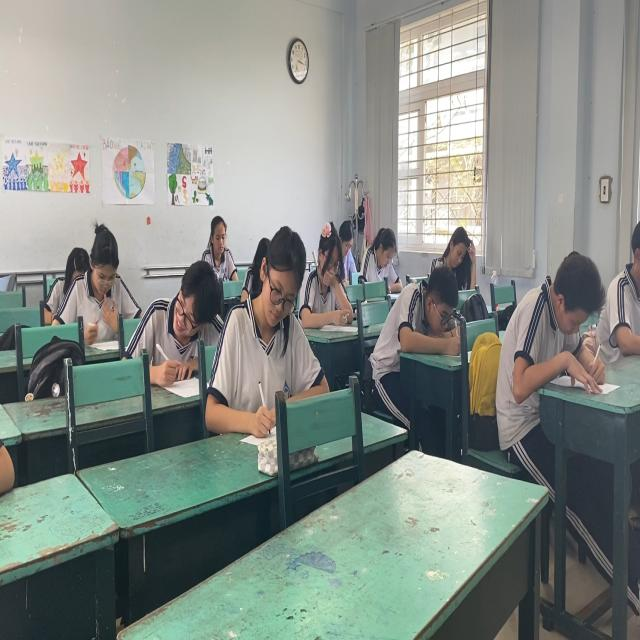cheating: (142, 258, 229, 382)
not_cheating: (227, 224, 312, 424), (505, 252, 604, 400), (58, 217, 134, 338), (390, 262, 462, 365), (307, 213, 353, 321), (353, 218, 412, 282), (433, 218, 482, 294), (196, 210, 241, 286)
